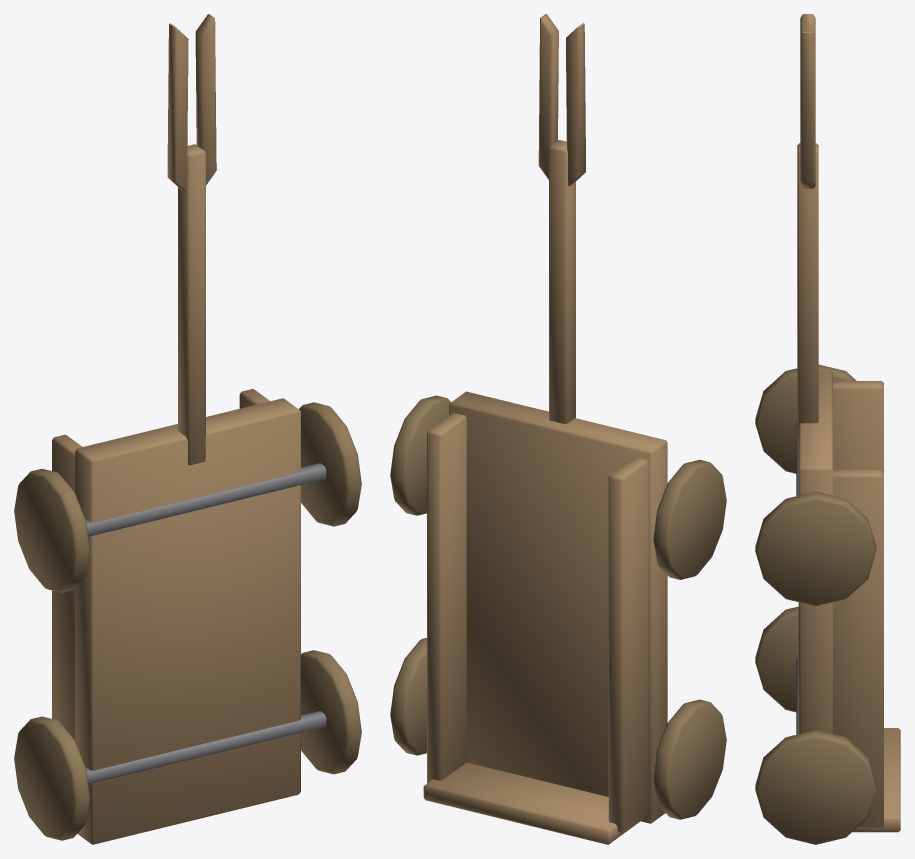
The model's file is environment_tutorial_cart_wreck.glb.
3 views of the same model, side by side, from view 1: azimuth 30°, elevation 25°; view 2: azimuth 150°, elevation 25°; view 3: azimuth 270°, elevation 25° (orthographic). The views are drawn at different scales.
Visible parts, largest first — view 1: environment_tutorial_cart_wreck; view 2: environment_tutorial_cart_wreck; view 3: environment_tutorial_cart_wreck.
Part boxes in pixels (x1,y1,x2,y2): environment_tutorial_cart_wreck: (14, 14, 361, 844); environment_tutorial_cart_wreck: (390, 14, 726, 844); environment_tutorial_cart_wreck: (755, 14, 900, 844).
Size of the model in its own units: 3.28 by 8.68 by 1.49.
